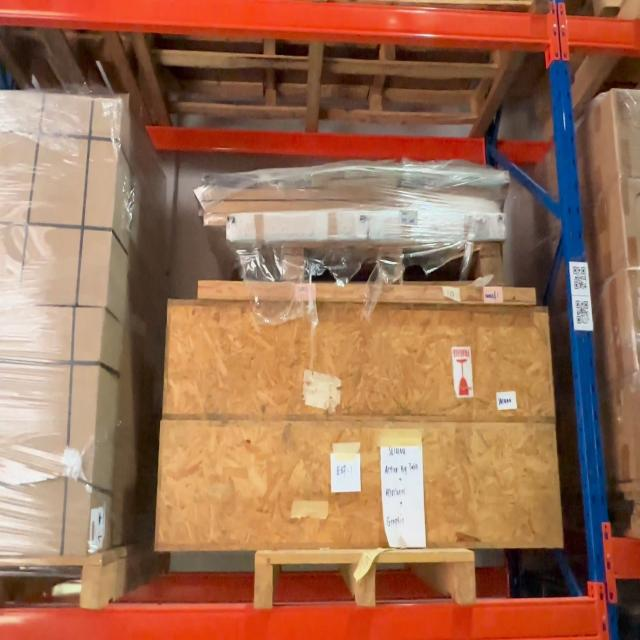box: (163, 419, 556, 542), (169, 306, 549, 416)
